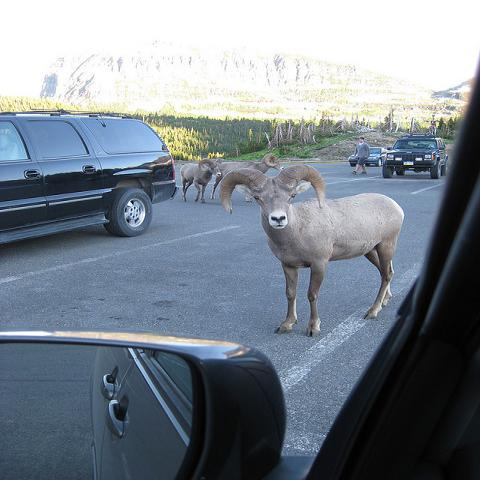car: (382, 132, 449, 180), (348, 146, 389, 167)
truck: (0, 108, 179, 248)
